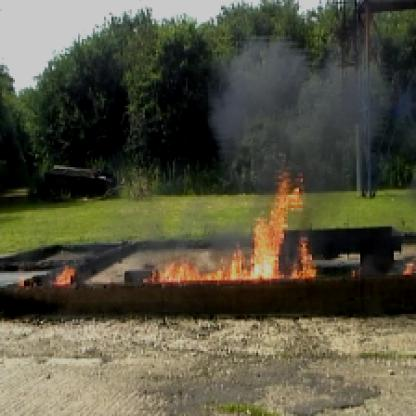Fire: (139, 171, 318, 284), (5, 260, 80, 290)
Smoke: (221, 35, 396, 171)
